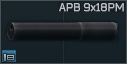APB 9x18PM sound suppressor: (0, 0, 127, 64)
